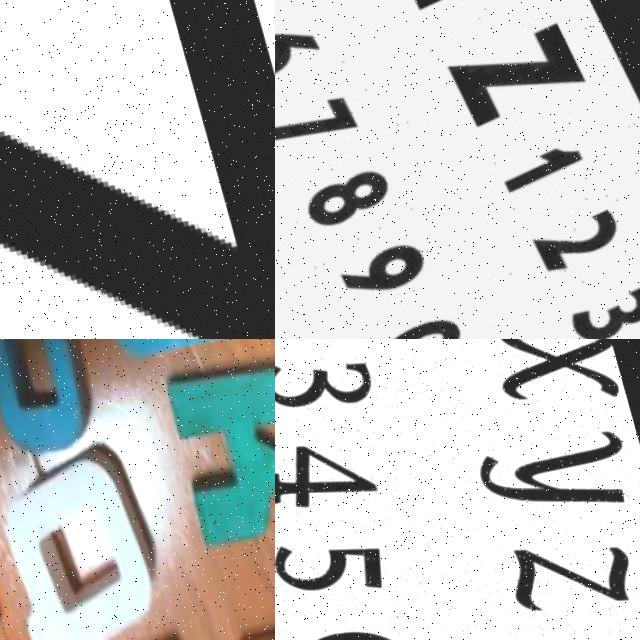0: (344, 301, 477, 339)
1: (486, 128, 599, 202), (495, 612, 626, 640)
2: (512, 191, 640, 284)
3: (275, 339, 397, 443), (554, 272, 640, 339)
4: (275, 401, 407, 541)
5: (275, 498, 411, 633)
6: (275, 588, 443, 640), (275, 1, 347, 103)
7: (275, 81, 371, 169)
8: (278, 150, 408, 245)
9: (313, 228, 441, 317)
K: (151, 351, 275, 553)
P: (0, 339, 100, 466)
Q: (0, 436, 178, 640)
Z: (0, 0, 275, 339)
